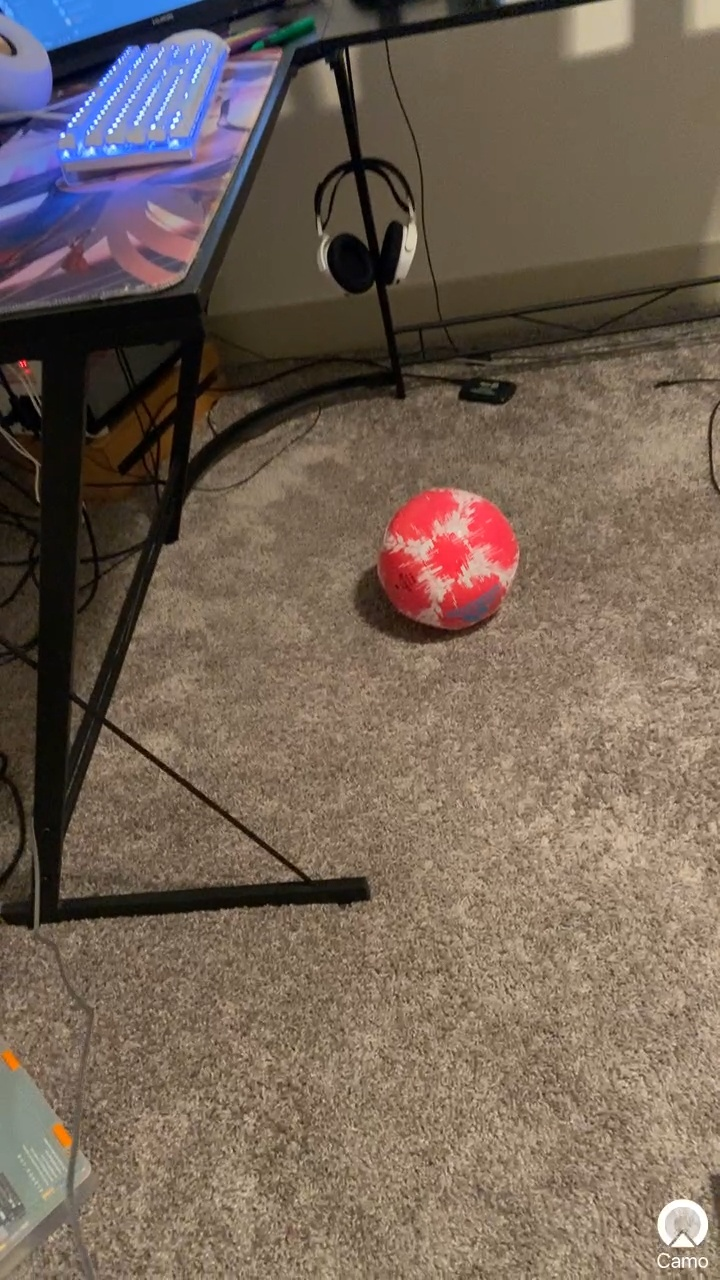Soccer_Ball: (364, 474, 539, 664)
